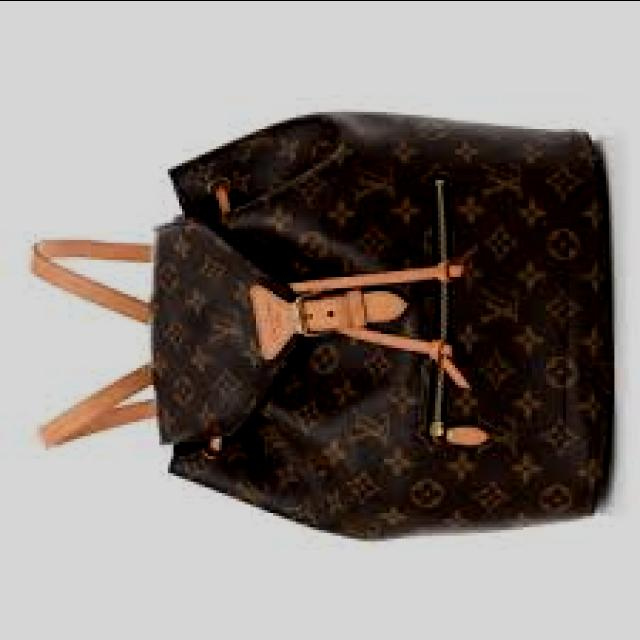backpack: (30, 112, 613, 544)
